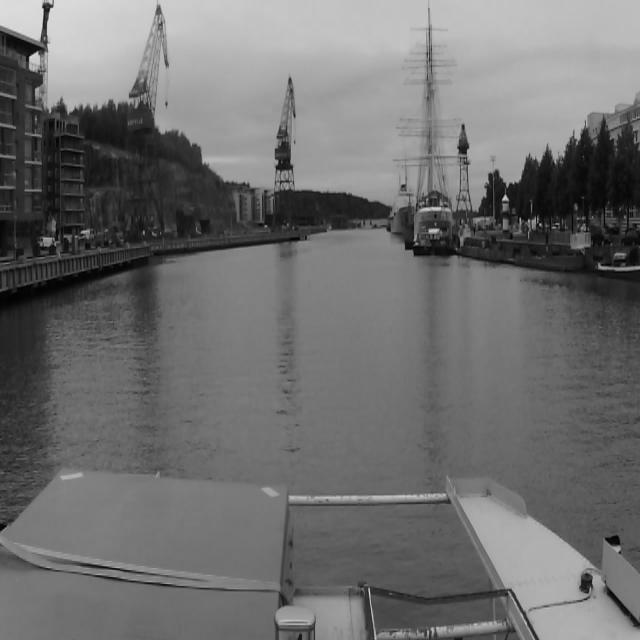ship: (402, 9, 456, 220), (411, 230, 431, 254)
